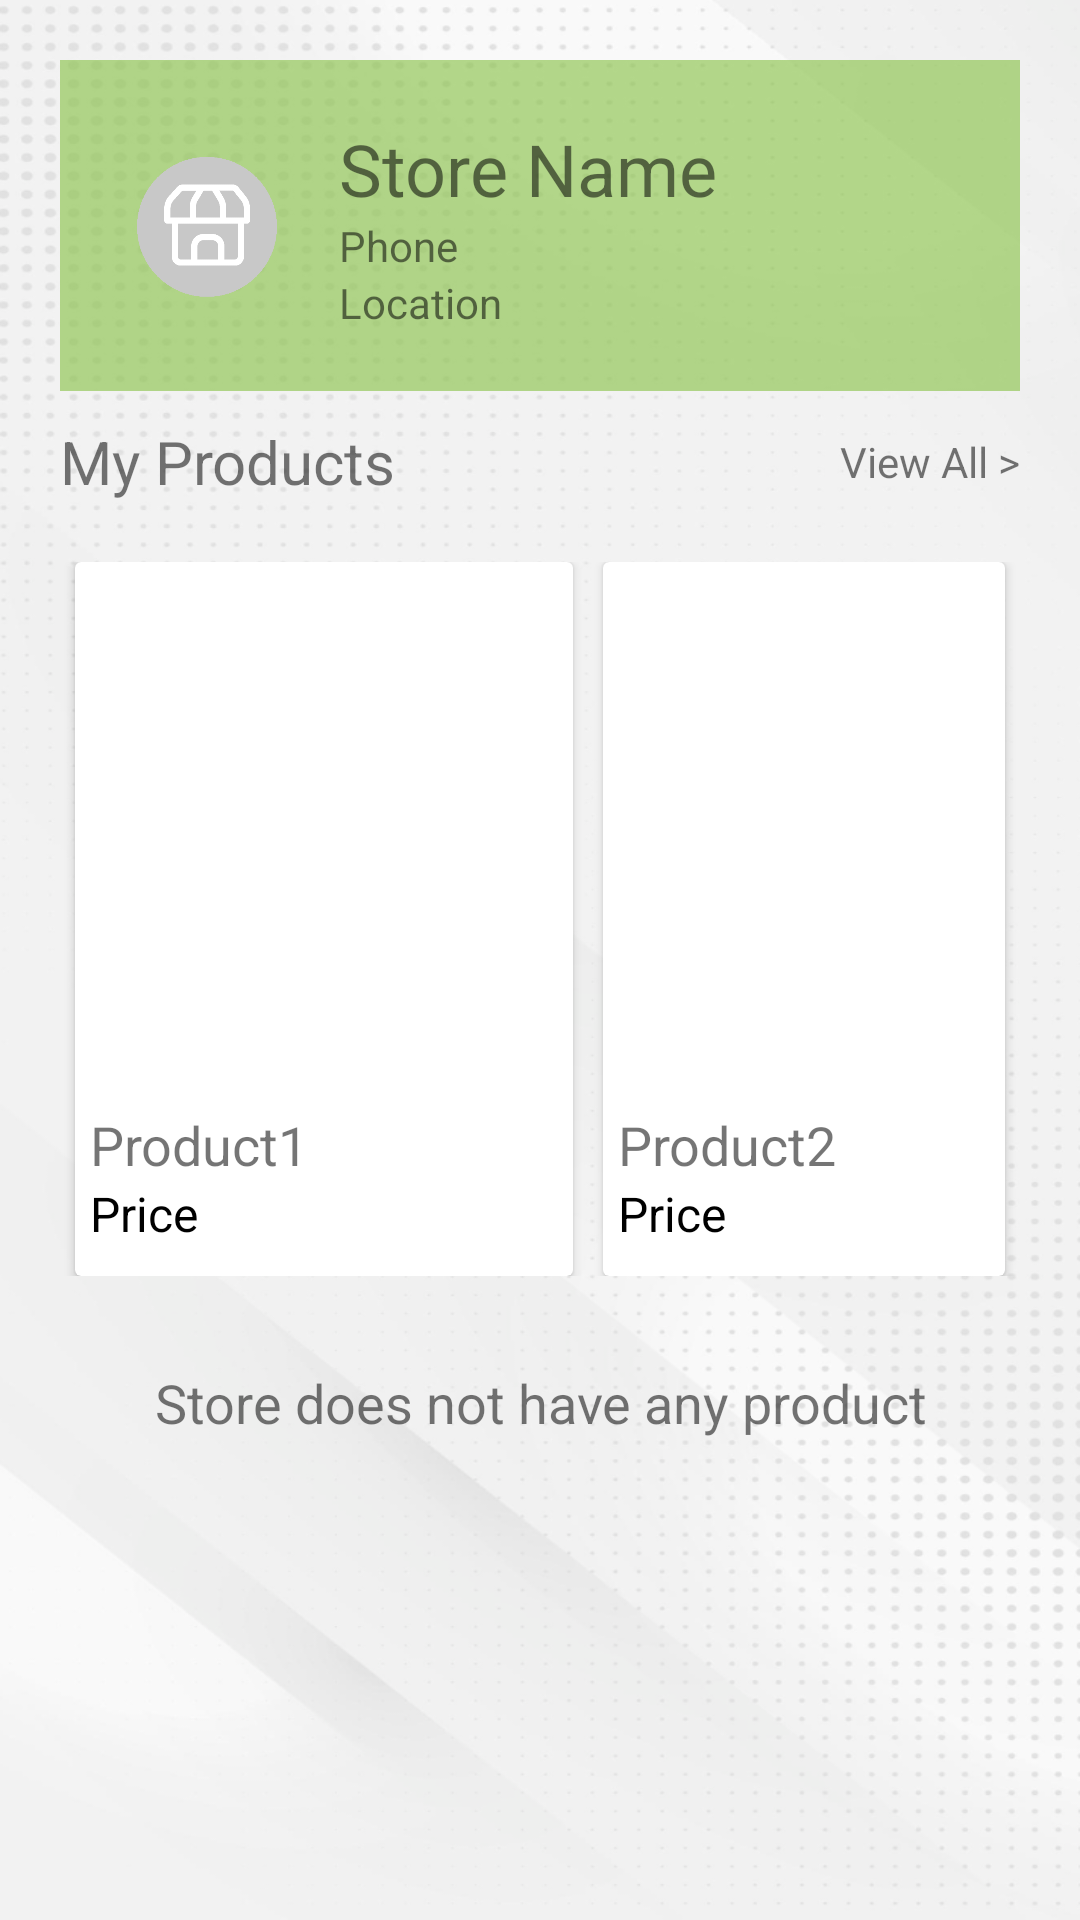

Icons on this 1080*1920 Android screen, each with the point to tap as (x=x, y=y):
store empty: (x=207, y=227)
